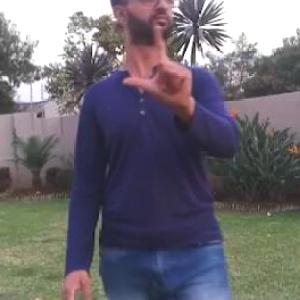land_hand: (120, 17, 204, 108)
